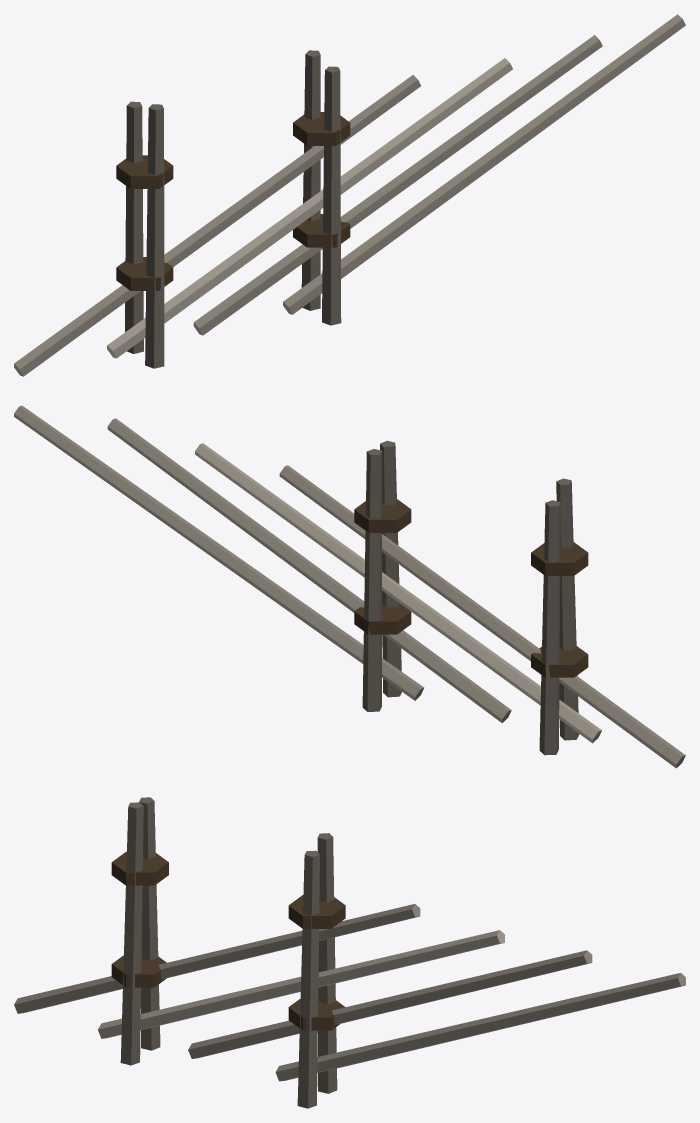
File: forest_gardsgard_a.glb
3 renders of one model, top to bottom at view 1: azimuth 30°, elevation 25°; view 2: azimuth 150°, elevation 25°; view 3: azimuth 330°, elevation 25°, orthographic.
Parts seen in each view (by area): view 1: forest_gardsgard_a; view 2: forest_gardsgard_a; view 3: forest_gardsgard_a.
Part boxes in pixels (x1,y1,x2,y2): forest_gardsgard_a: (14, 14, 685, 376); forest_gardsgard_a: (14, 405, 685, 768); forest_gardsgard_a: (14, 797, 685, 1108).
Bounding box in the file's own units: 3.78 × 1.38 × 0.2904.
